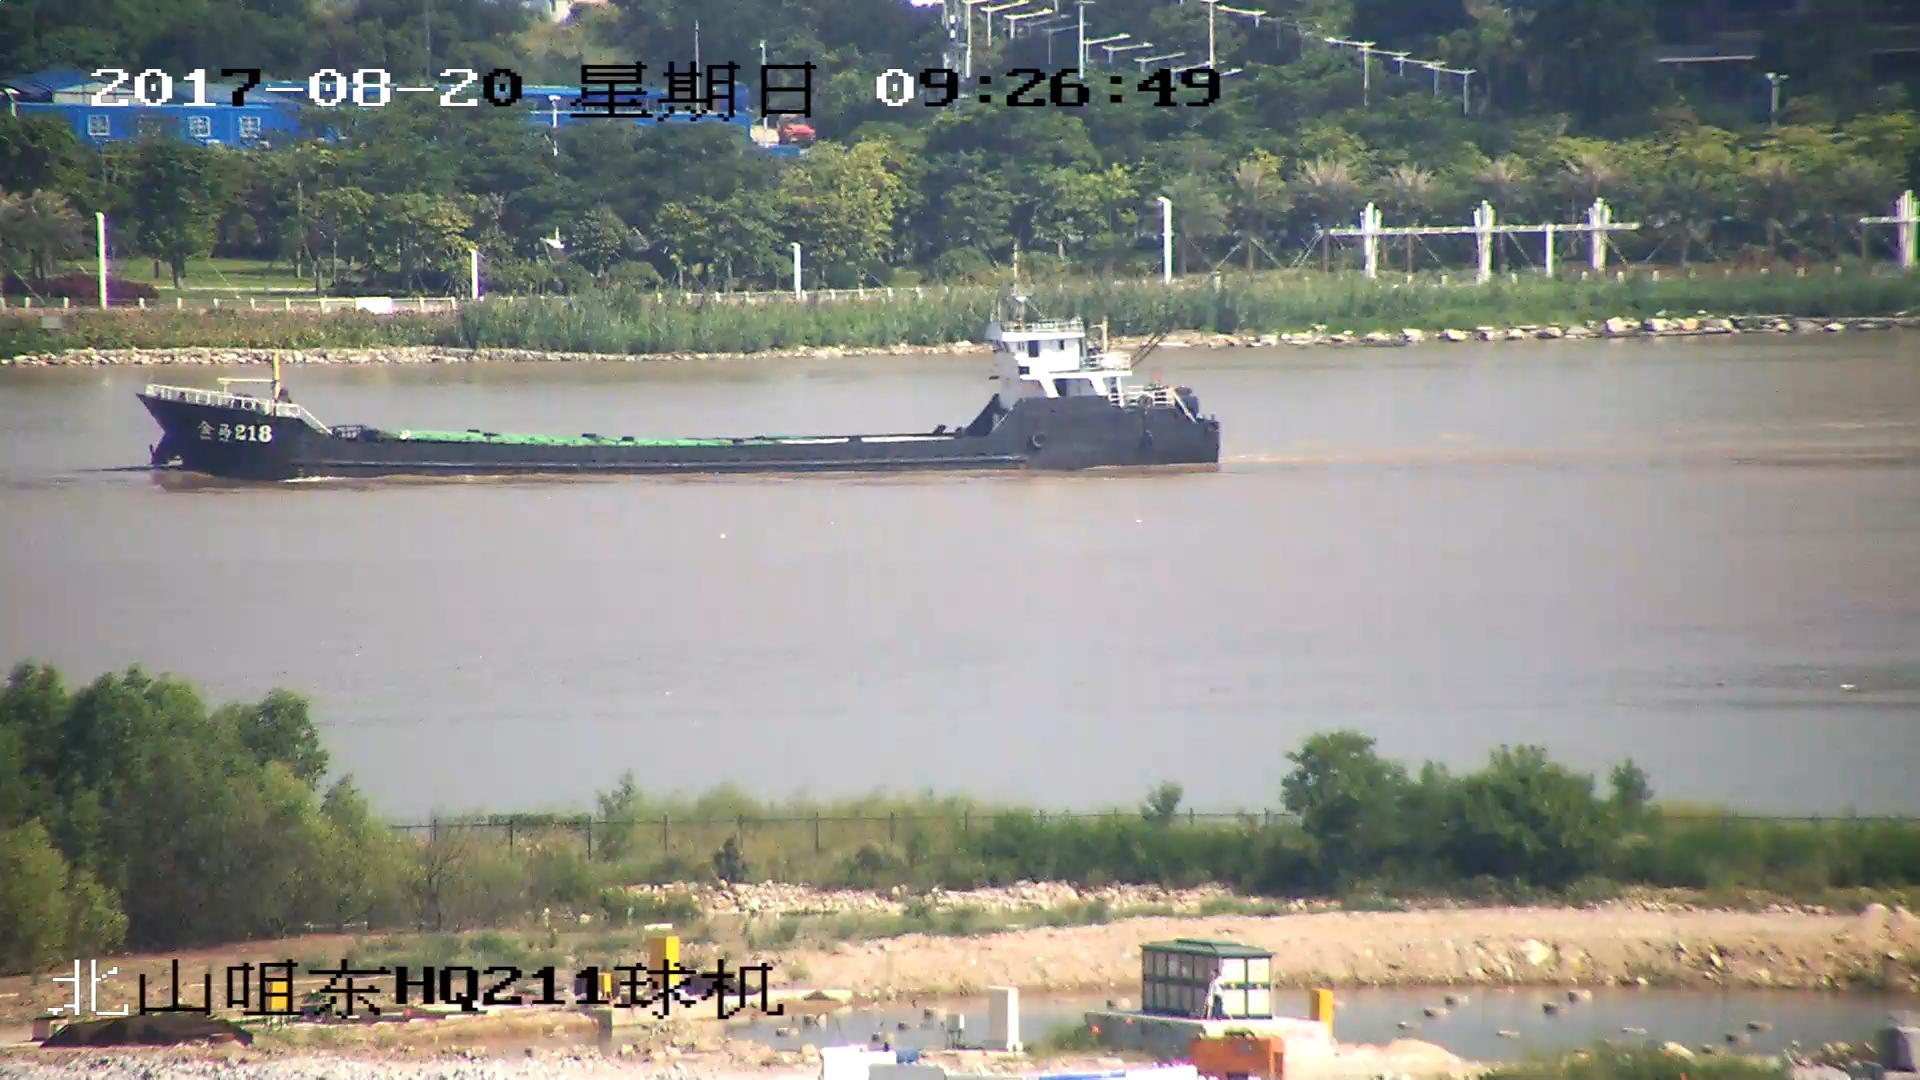Ship: (144, 311, 1220, 473)
